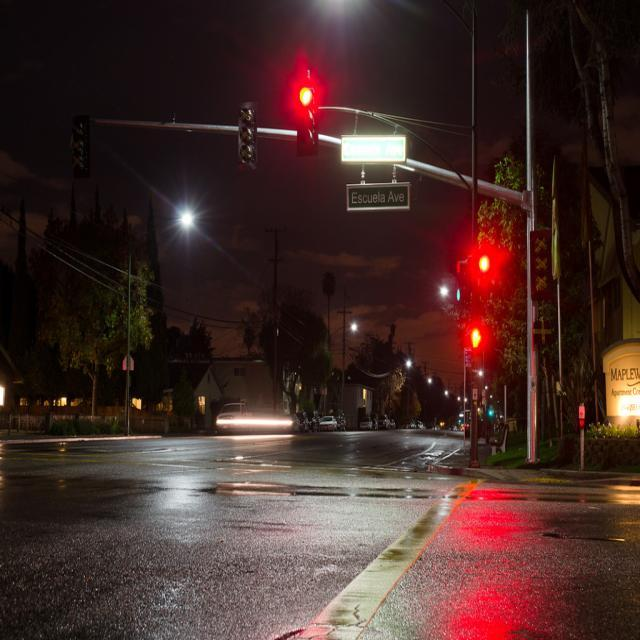traffic light: (296, 83, 319, 155)
